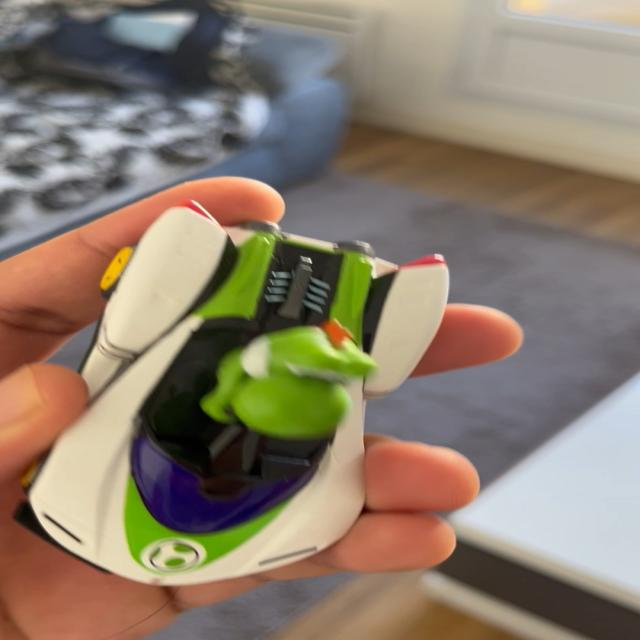yoshi: (12, 182, 473, 608)
